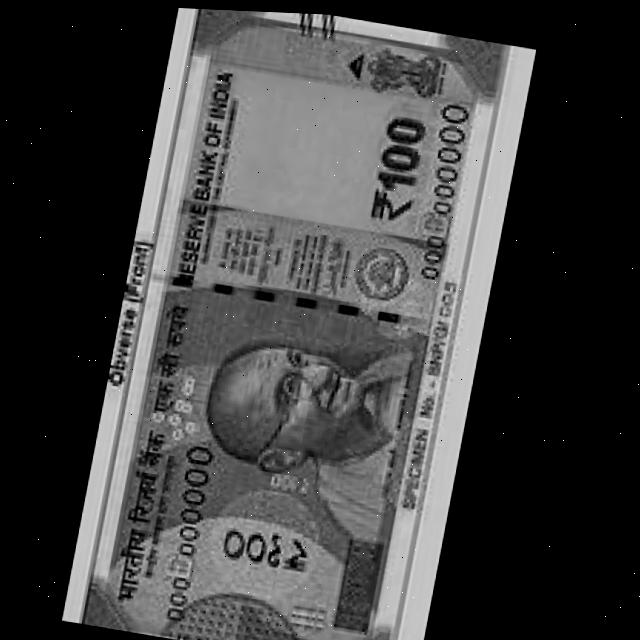banknote: (66, 3, 529, 640)
